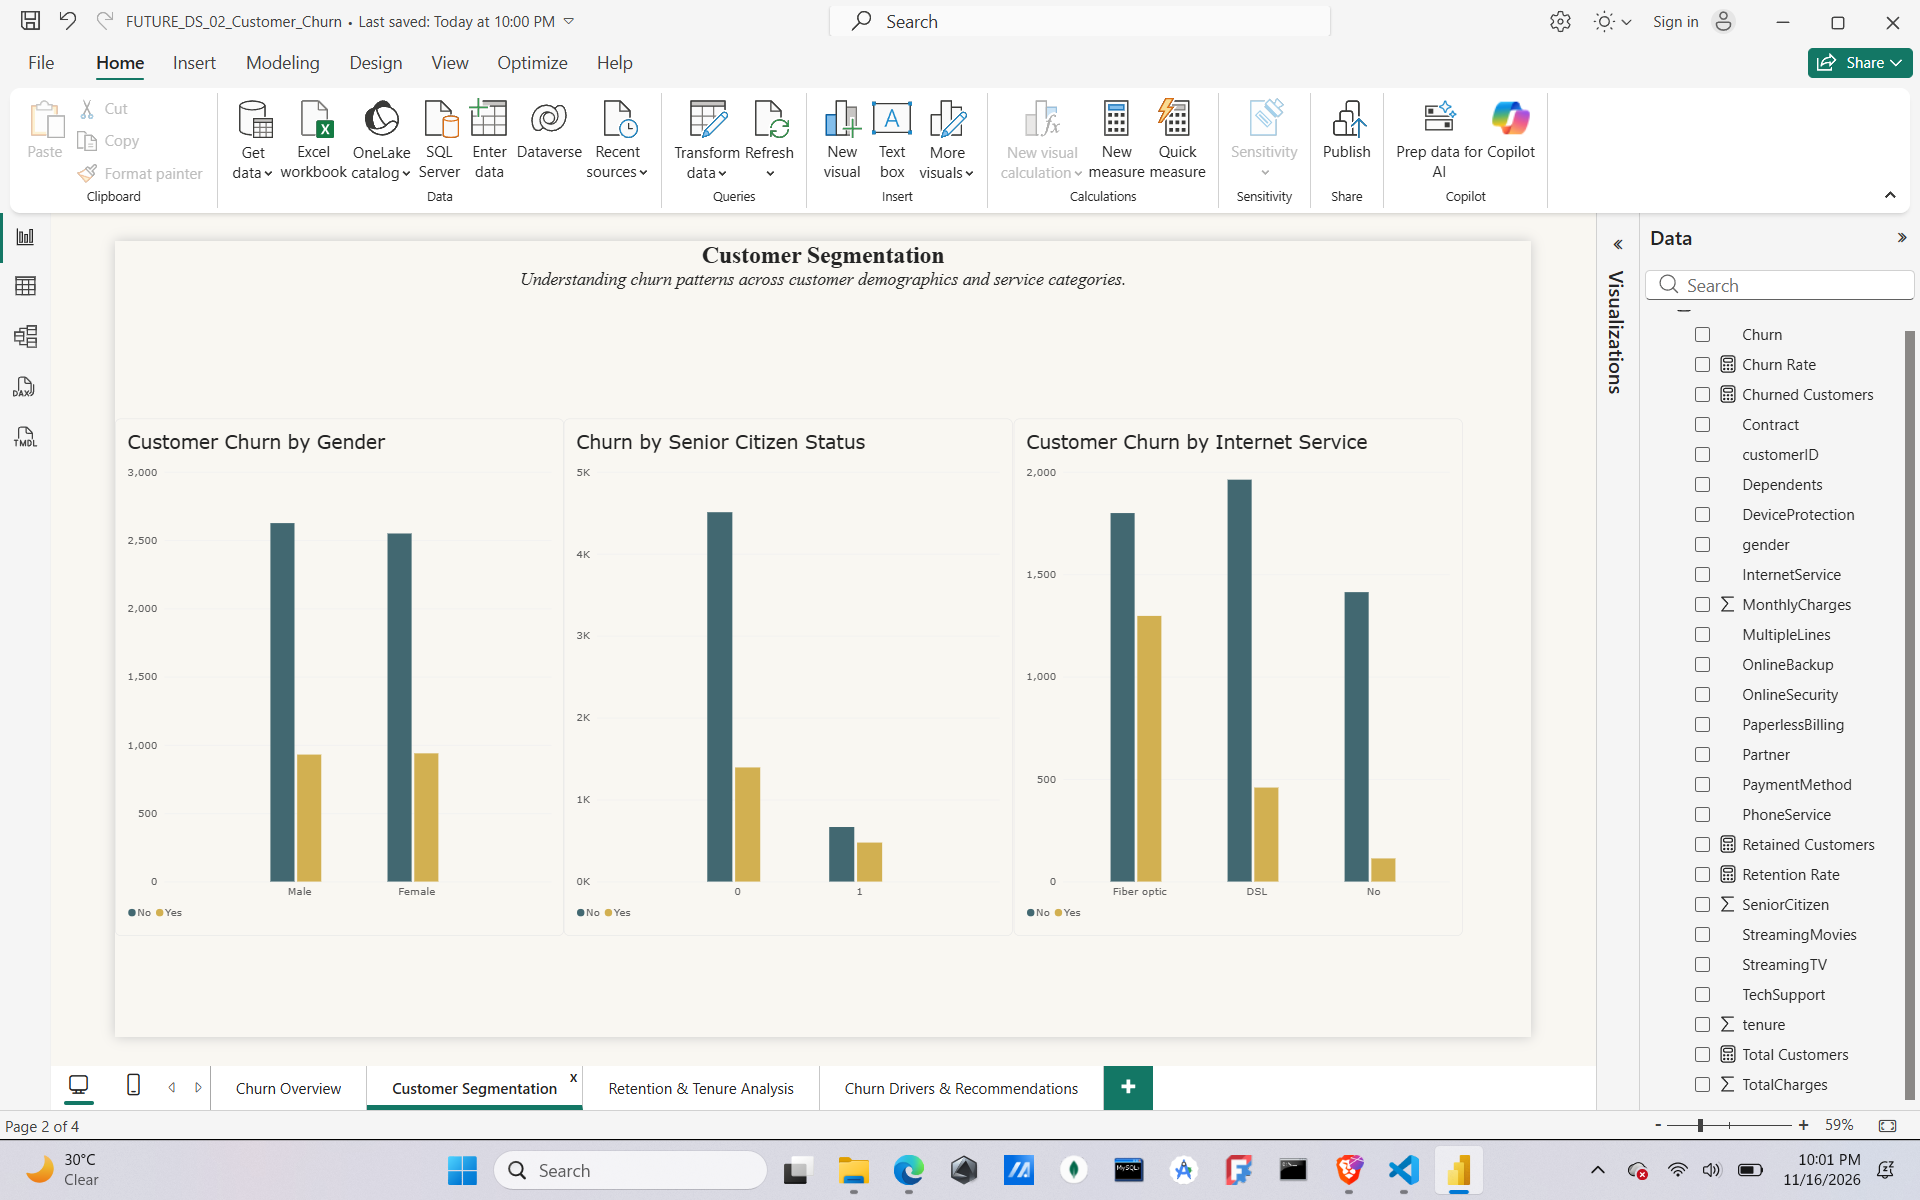

The page's visual inventory and layout, read from the dashboard file:
{"tool":"powerbi","page":{"name":"Customer Segmentation","canvas":[1920,1080],"ordinal":1},"visuals":[{"type":"clusteredColumnChart","title":"Customer Churn by Gender","fields":{"Category":["ChurnData.gender"],"Series":["ChurnData.Churn"],"Y":["Count(ChurnData.customerID)"]},"box":[0,240.7,609,701.7],"z":0,"group":"g1"},{"type":"group","id":"g1","title":"Group 1","box":[0,240.7,1827.1,701.7],"z":0},{"type":"textbox","box":[0,0,1920.3,115.3],"z":1},{"type":"clusteredColumnChart","title":"Churn by Senior Citizen Status","fields":{"Category":["ChurnData.SeniorCitizen"],"Series":["ChurnData.Churn"],"Y":["Count(ChurnData.customerID)"]},"box":[609,240.7,608.6,701.7],"z":1000,"group":"g1"},{"type":"clusteredColumnChart","title":"Customer Churn by Internet Service","fields":{"Category":["ChurnData.InternetService"],"Series":["ChurnData.Churn"],"Y":["Count(ChurnData.customerID)"]},"box":[1218.1,240.7,608.6,701.7],"z":2000,"group":"g1"}]}

Visuals, with their boxes on the page's 1920x1080 design canvas (x1, y1, x2, y2). These are canvas units, not pixel positions in the 1920x1200 screenshot, which may show the page scaled, cropped or inside an application window:
"Customer Churn by Gender" clusteredColumnChart: bbox=[0, 241, 609, 942]
"Group 1" group: bbox=[0, 241, 1827, 942]
textbox: bbox=[0, 0, 1920, 115]
"Churn by Senior Citizen Status" clusteredColumnChart: bbox=[609, 241, 1218, 942]
"Customer Churn by Internet Service" clusteredColumnChart: bbox=[1218, 241, 1827, 942]
